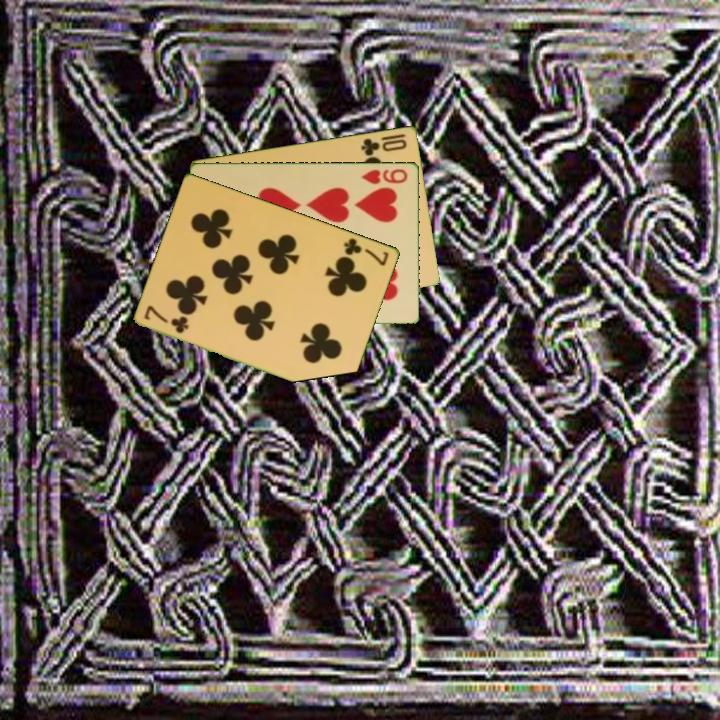10c: (358, 134, 410, 159)
7c: (340, 234, 392, 269), (141, 302, 192, 336)
9h: (359, 165, 410, 187)
